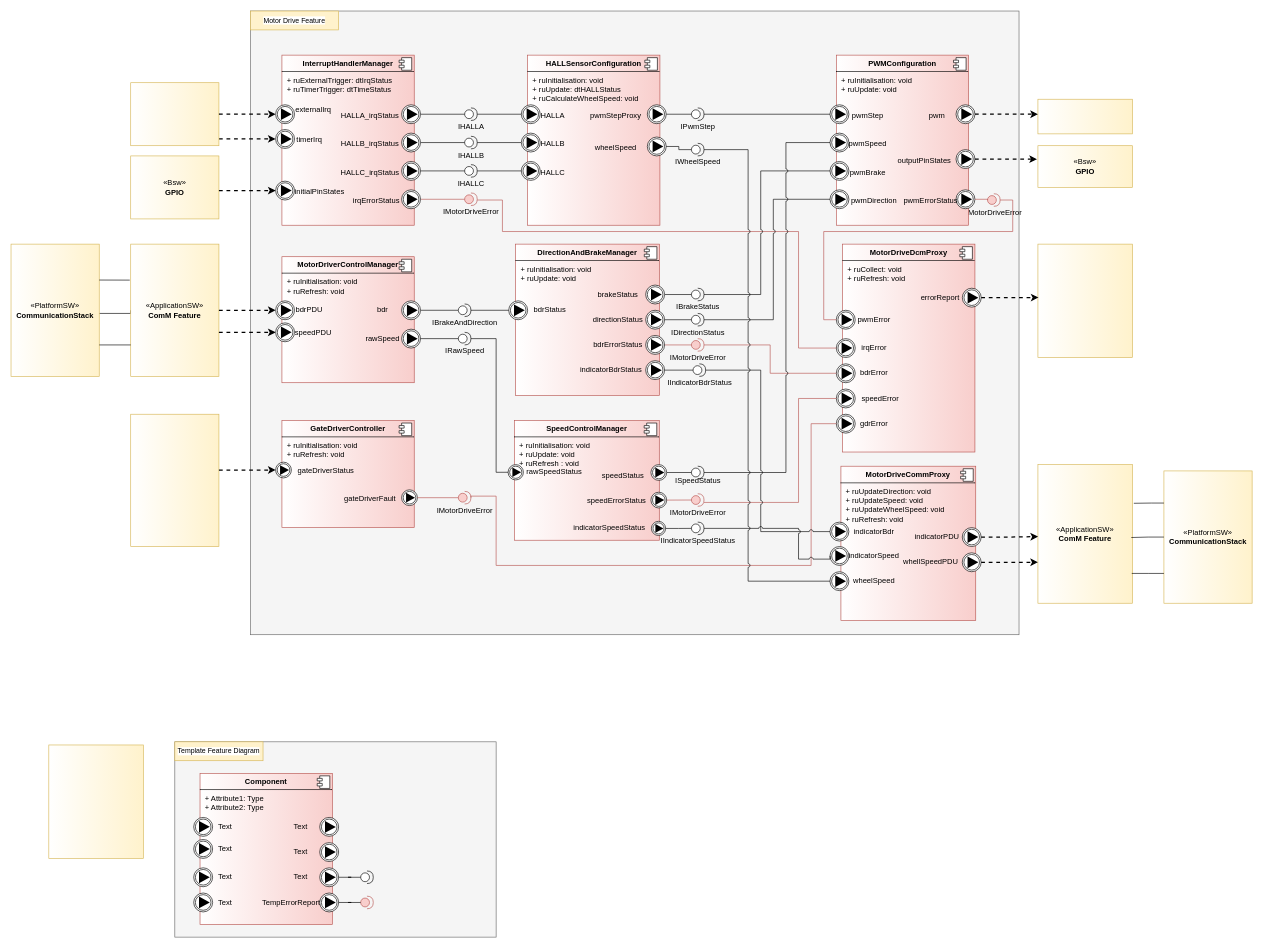
Image size: 1263x948. Some labels were removed from this diagram. The centre of each missing label's shape, as x and y in pixels:
«Bsw» InterruptHandling: (174,114)
«Bsw» Timer: (1084,116)
«CDD» DRV8353 Library: (174,480)
«PlatformSW» DiagnosticsStack: (1084,300)
«TempPlatform» Template Feature: (95,801)
